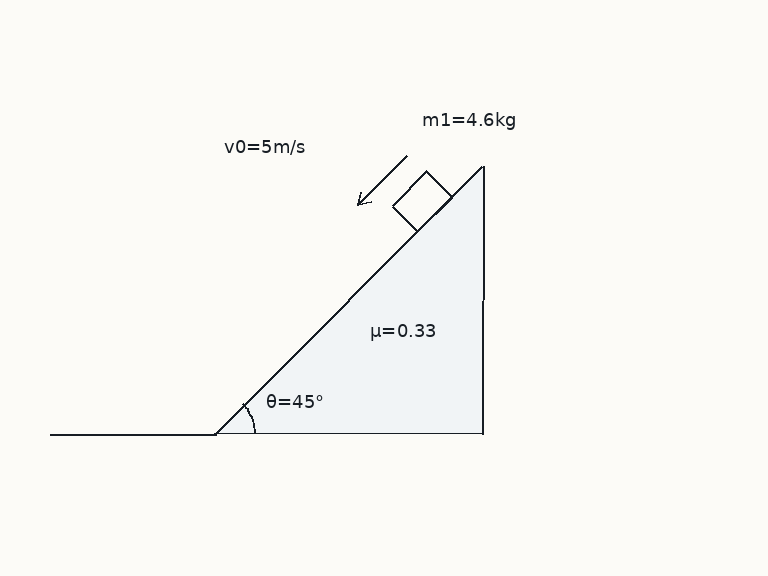block: (390, 169, 454, 233)
ramp: (213, 164, 484, 435)
